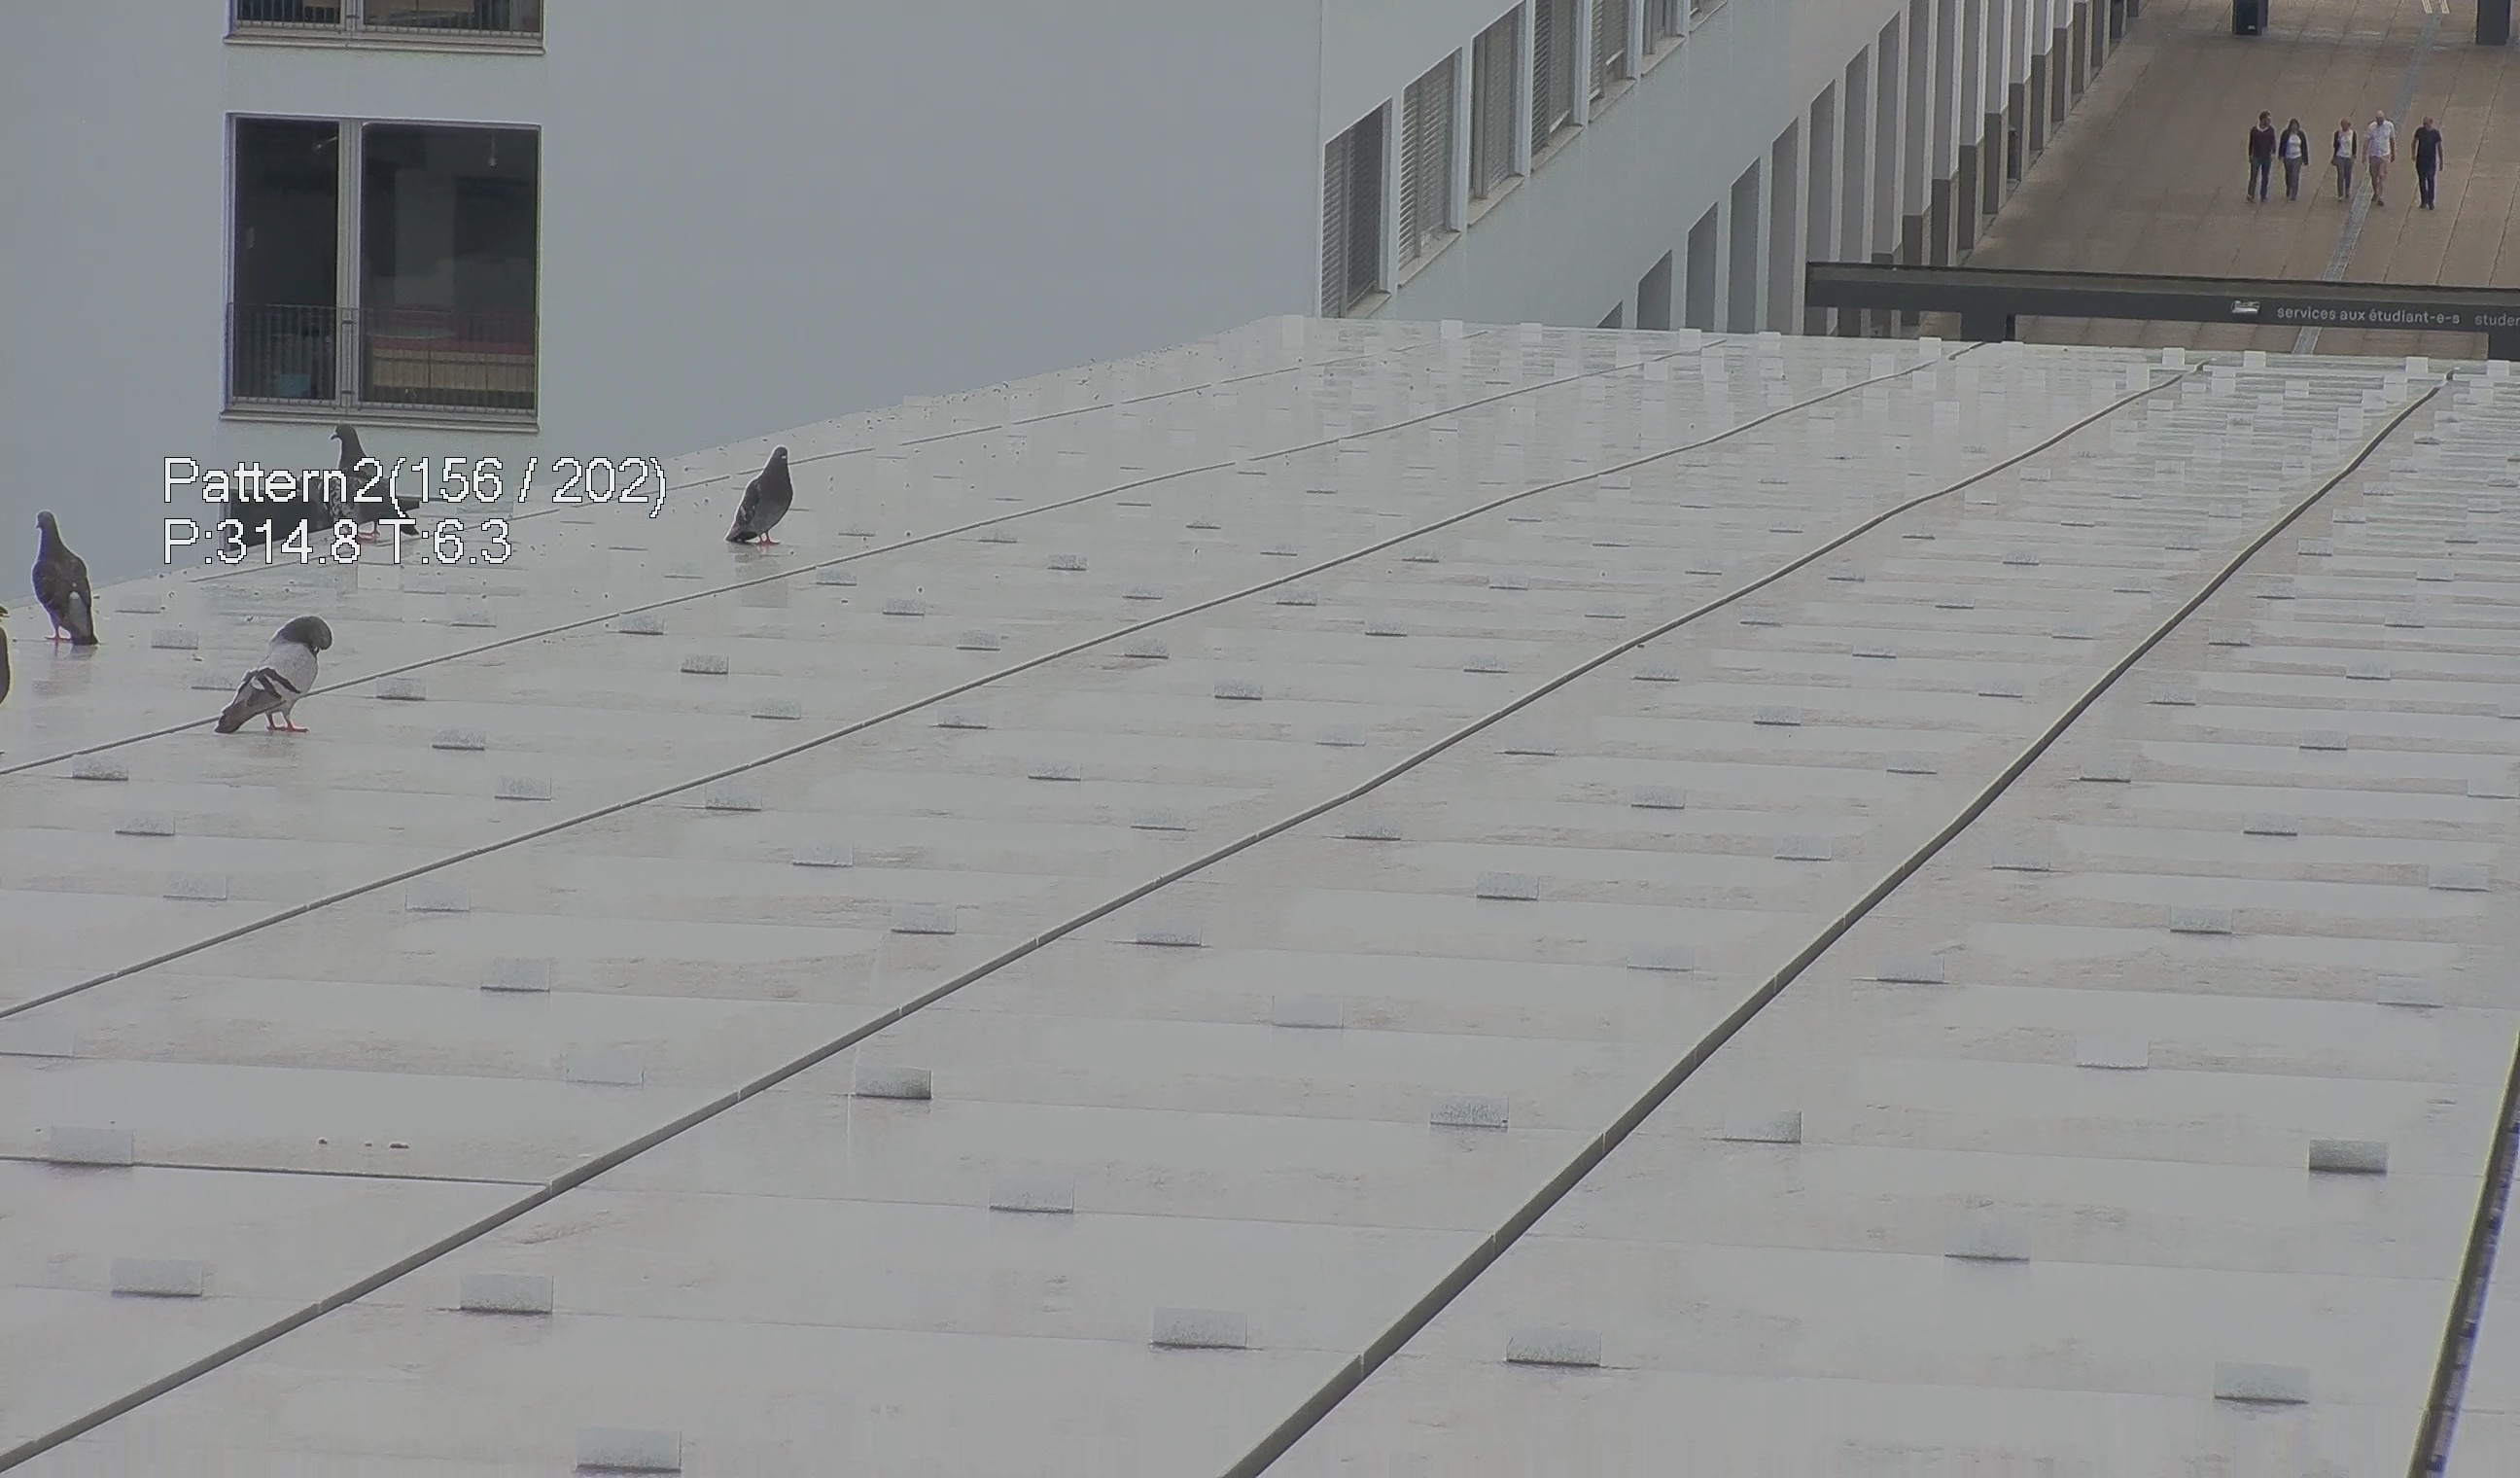Pigeon: (215, 611, 341, 744), (318, 413, 417, 547), (26, 503, 114, 651), (710, 436, 795, 551)
